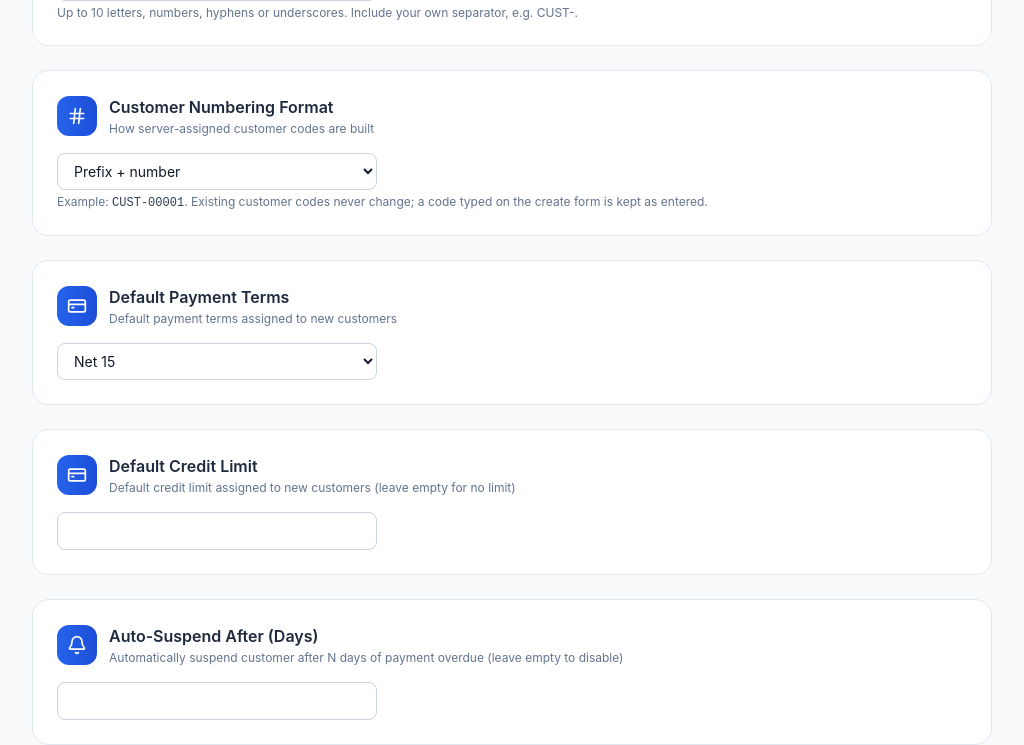
it: BUG-13 Customer Settings — Refresh with unsaved edits › with edits, Refresh asks first; Cancel keeps the edit and does not reload
(page scrolled)
Select "Net 60" in the dropdown labelled "Default Payment Terms": point(217, 362) [57,343,377,380]
(page scrolled)
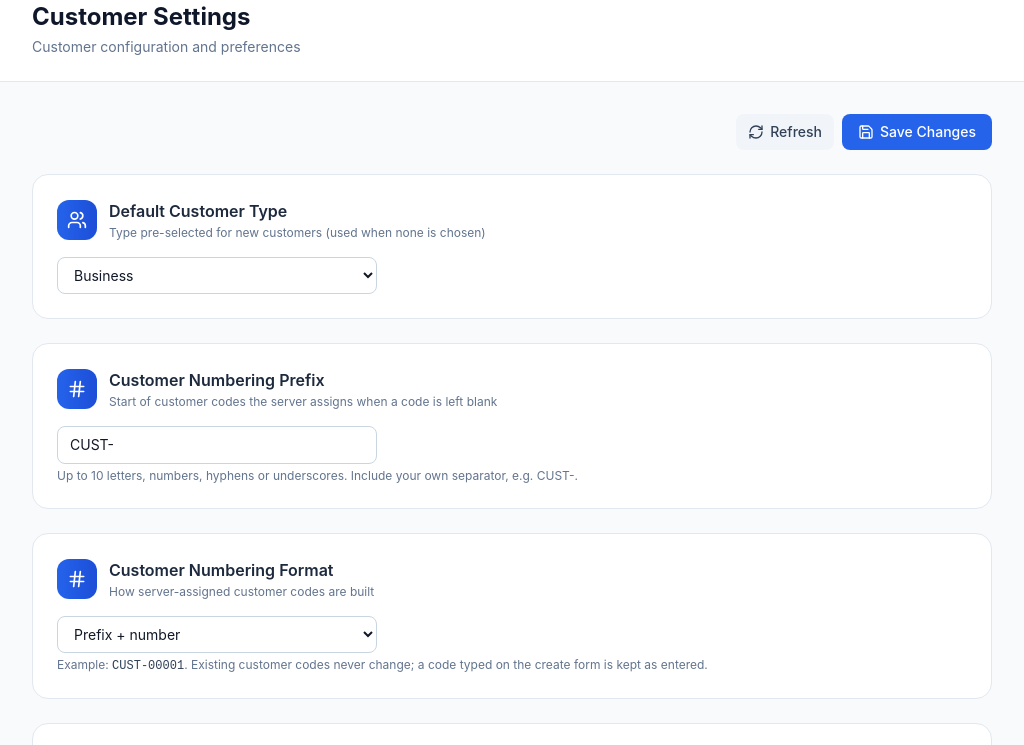
Click the button "Refresh": point(785, 132) [736,114,834,150]
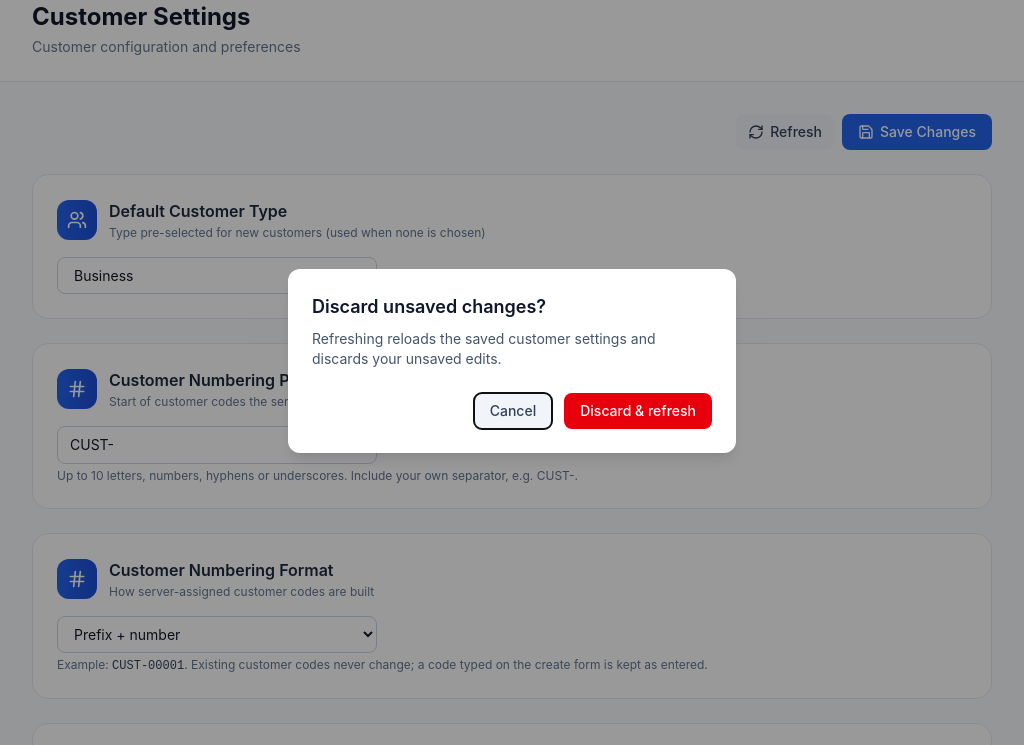
Expected: the heading "Discard unsaved changes?" is shown, [312,296,546,317]
Click the button "Cancel": point(513, 411) [474,393,552,429]
(page scrolled)
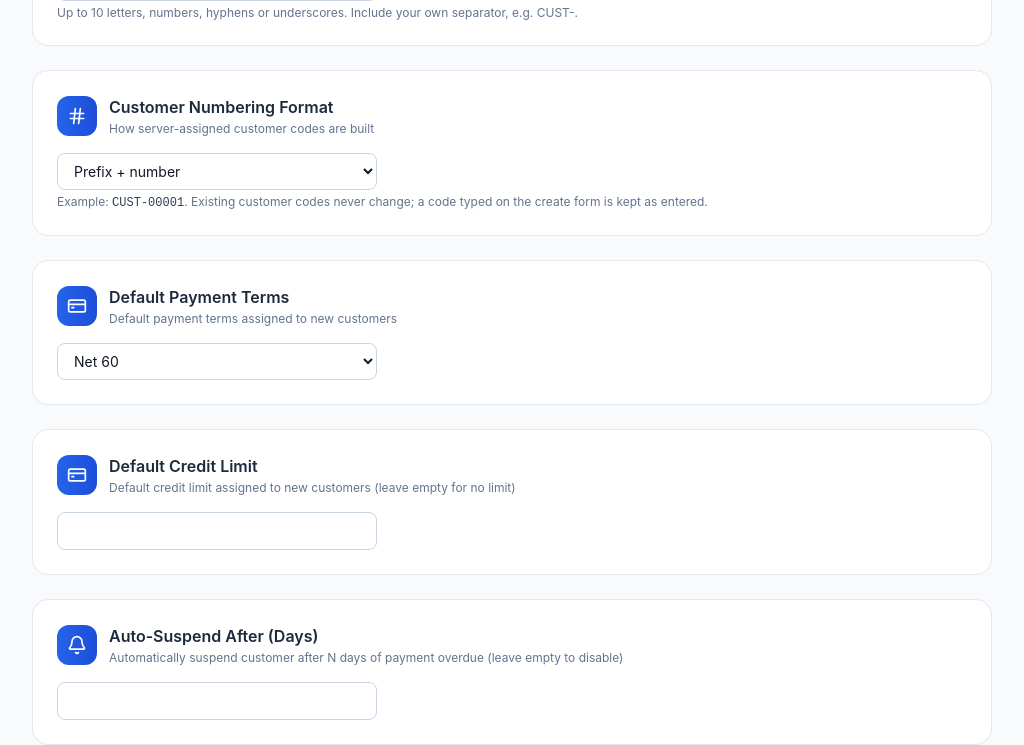
Expected: the heading "Discard unsaved changes?" is gone
